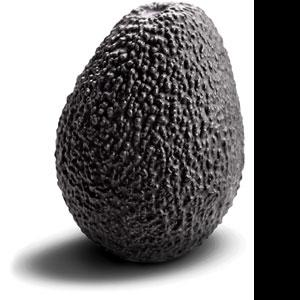ripe: (54, 1, 245, 264)
